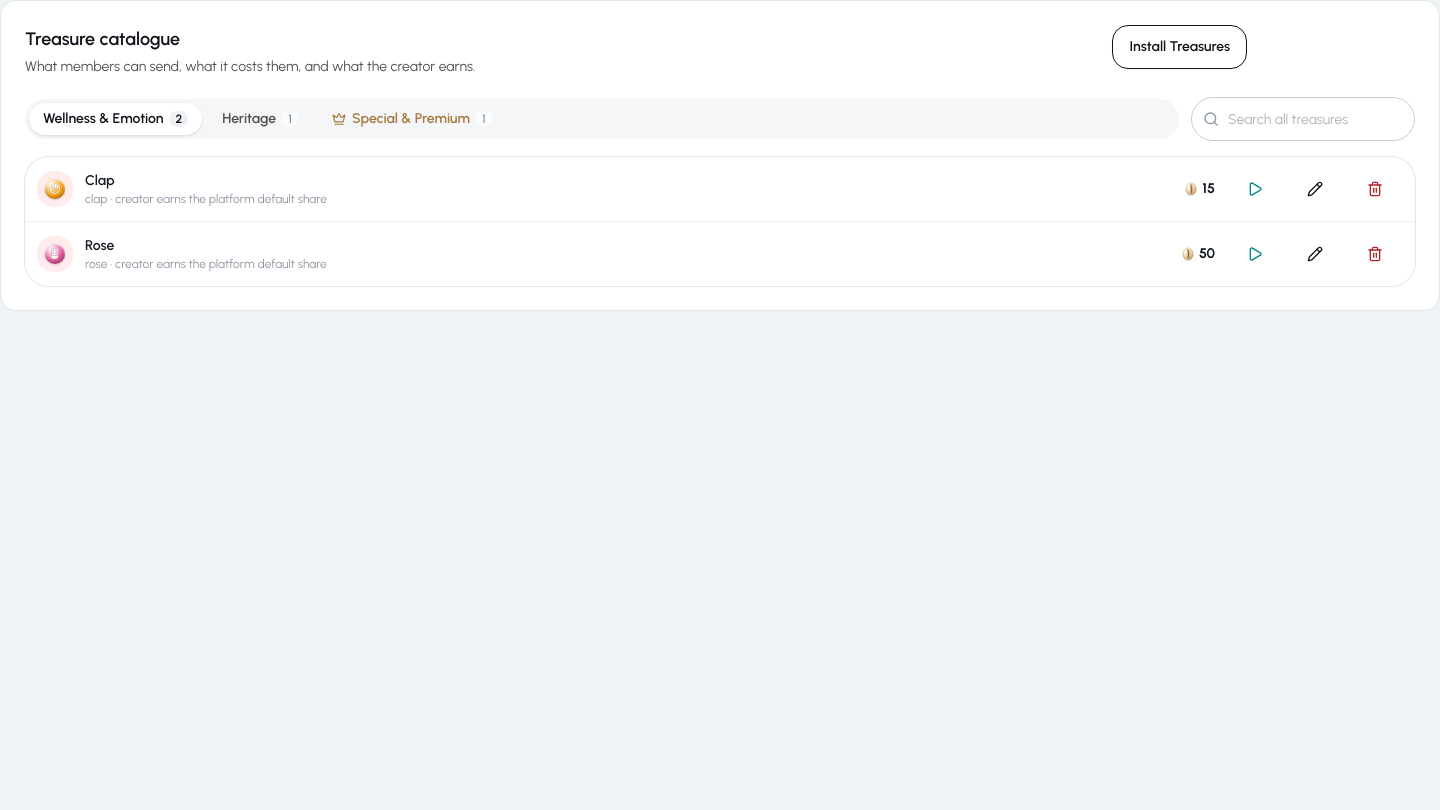
Test case: removing a treasure › does nothing when the confirmation is dismissed
Check: the text "Rose" is shown, box [85,237,114,254]
Click the button named "Remove Rose". click: click(1375, 254)
box: [1347,234,1403,274]
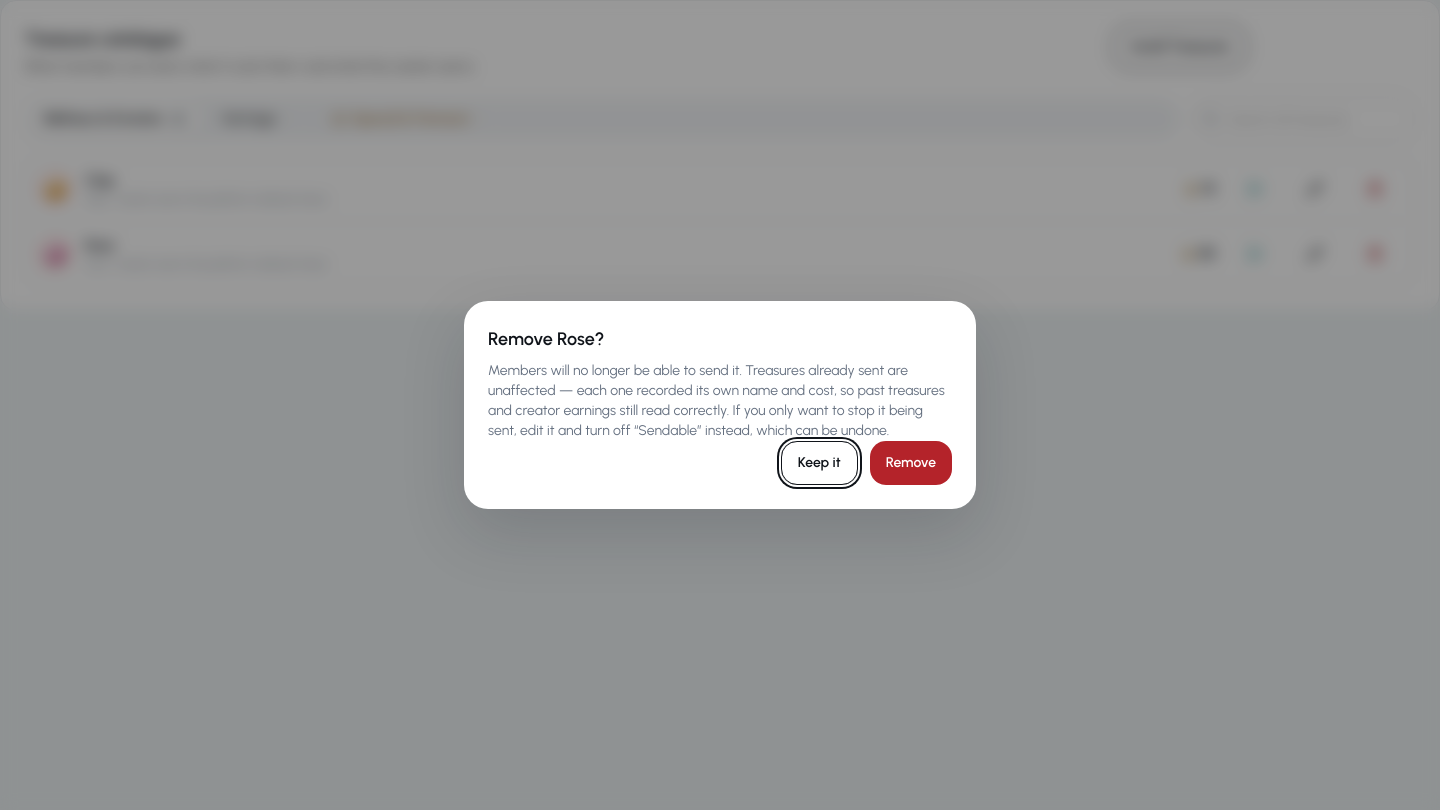
Click the button "Keep it". click: click(819, 463)
box: [781,441,858,485]
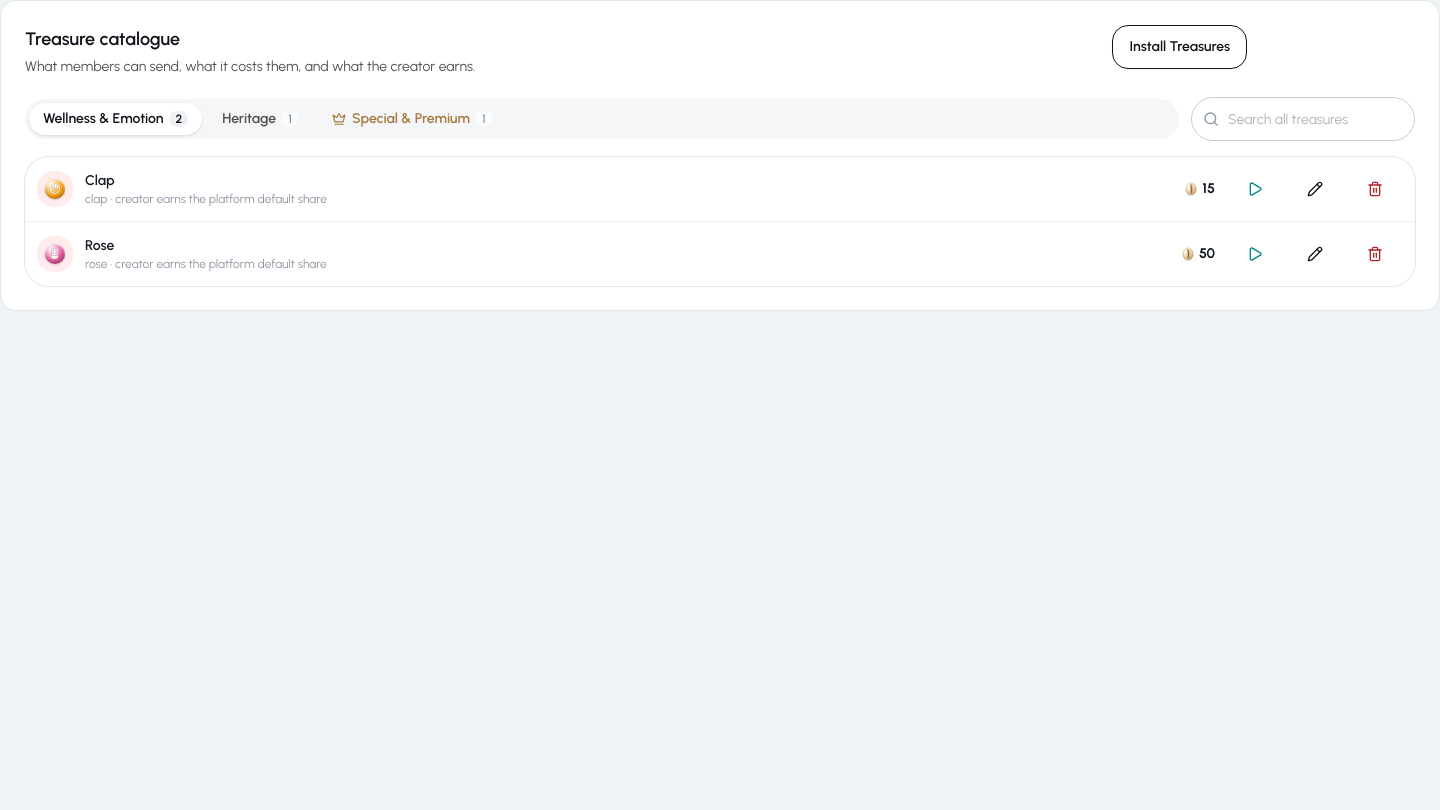
Check: the heading "Remove Rose?" is gone
